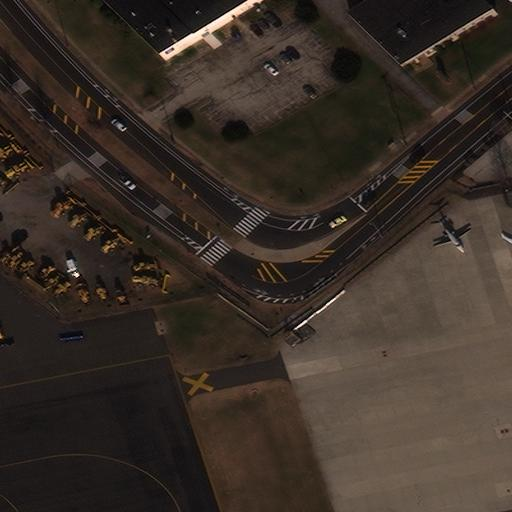Small Civil Transport: (435, 220, 470, 252)
